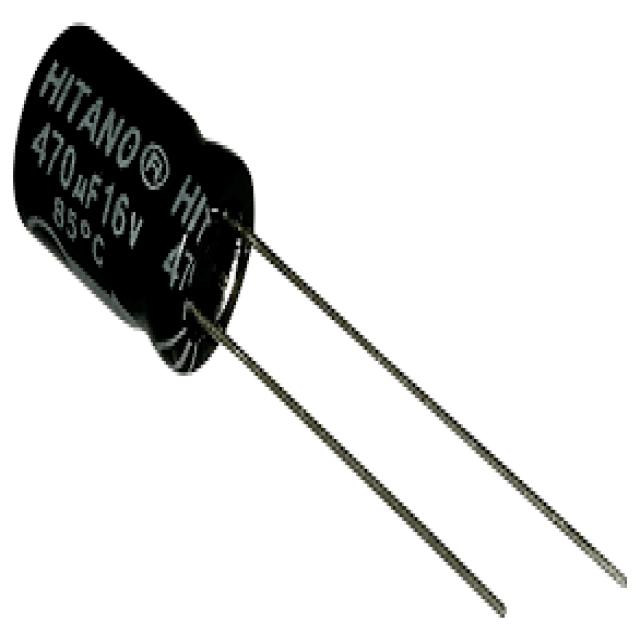Capacitor: (13, 26, 631, 618)
